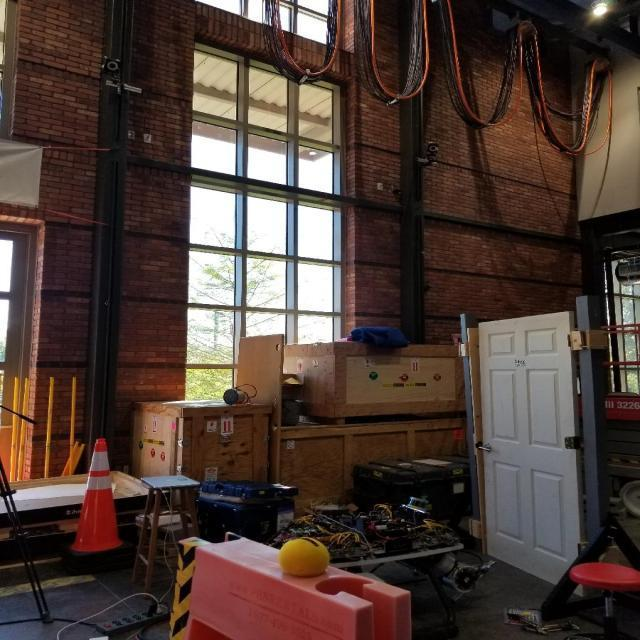door: (474, 308, 590, 596), (480, 443, 498, 453)
